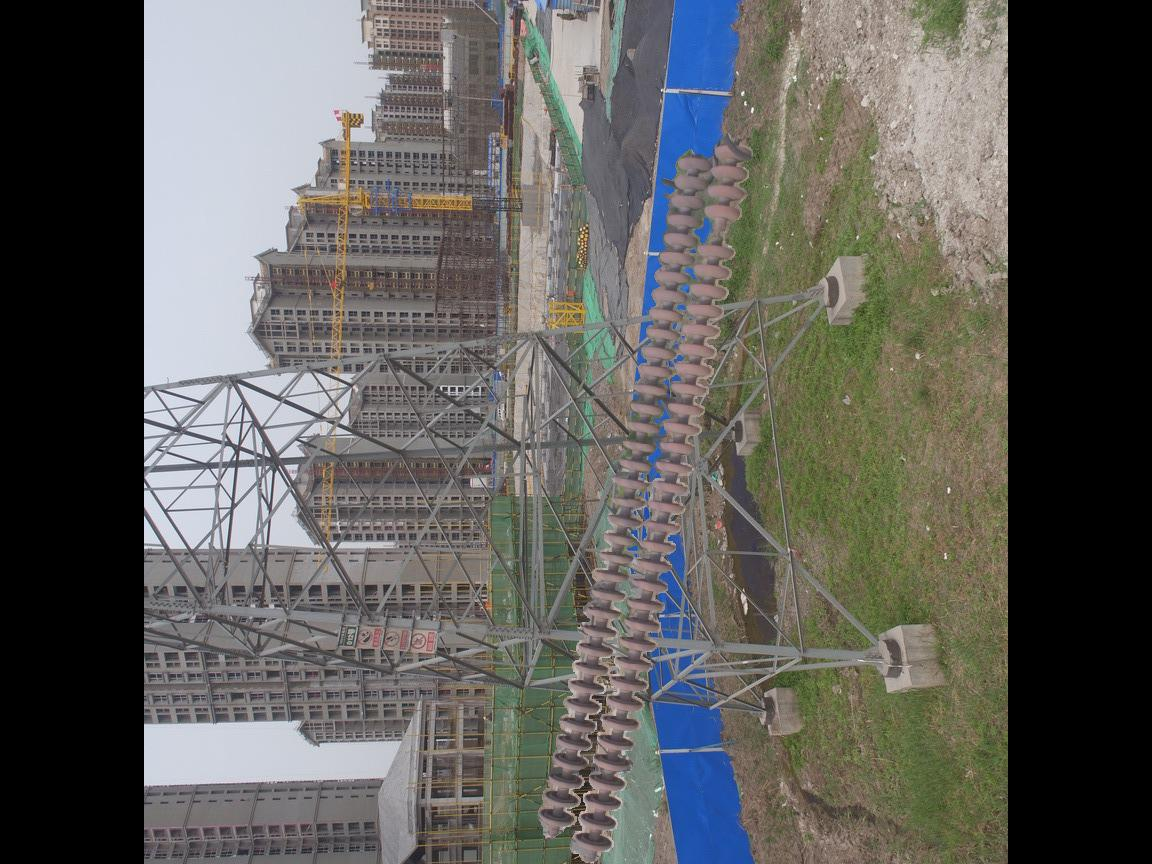insulator: (533, 132, 763, 859)
insulator_stringdrop: (695, 198, 746, 264)
